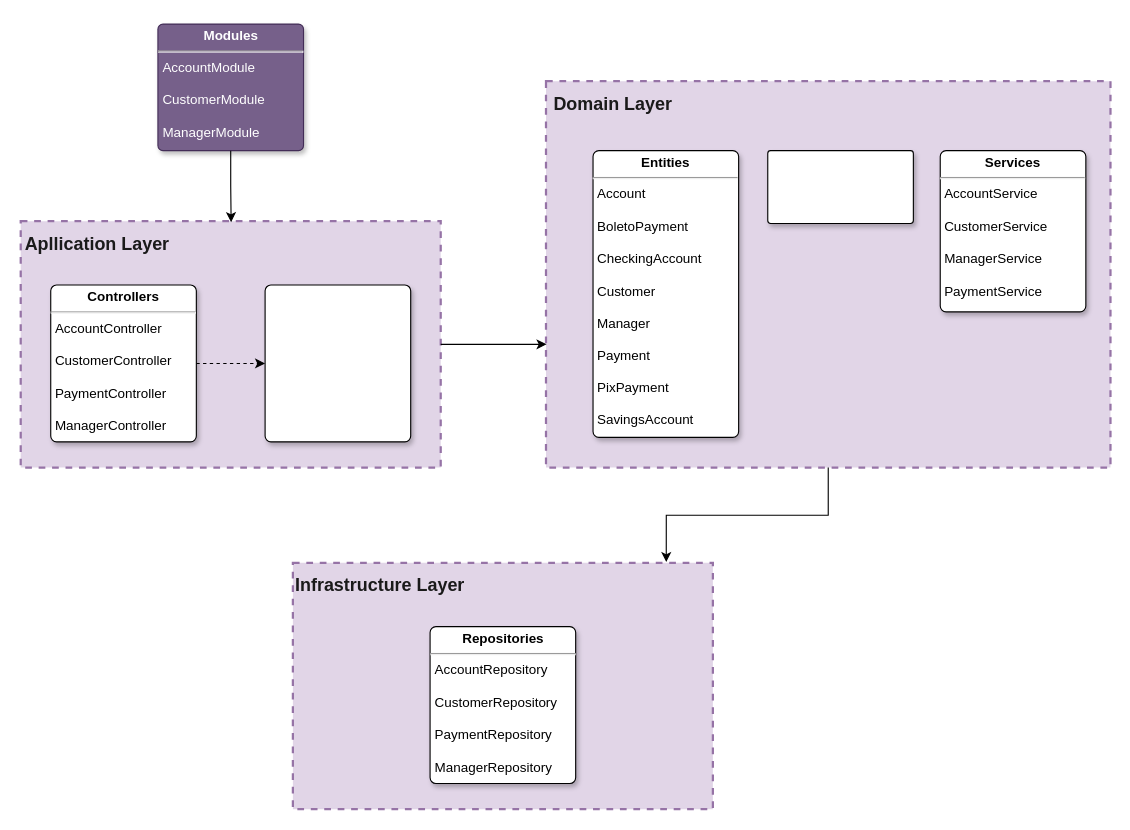
This 1130x830 diagram has some shape labels left out. Here are the shapes that lost their labels. From the top down, the centre of each, then its label:
the point at 841,188: Enums AccountType
the point at 338,364: DTOS AccountDTO CustomerDTO ManagerDTO PaymentDTO
